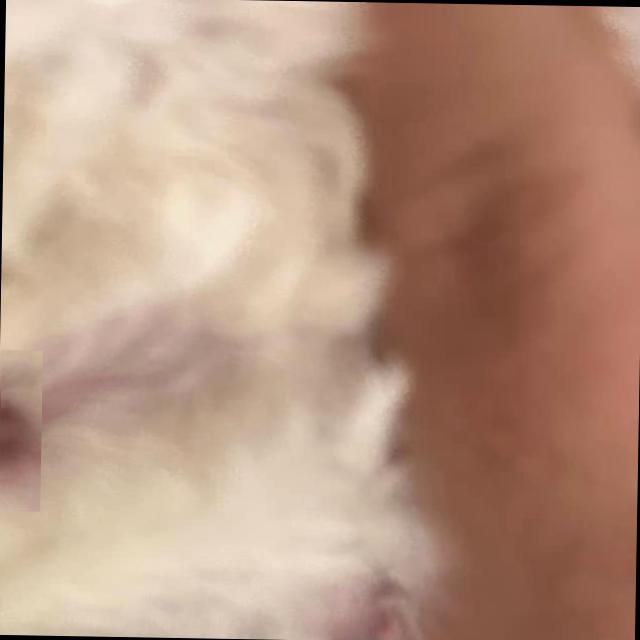fem: (1, 349, 42, 510)
